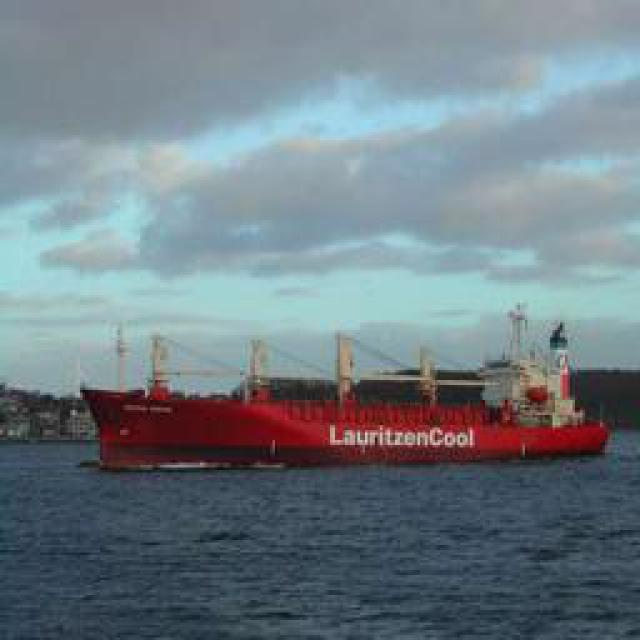Ship: (91, 329, 609, 472)
